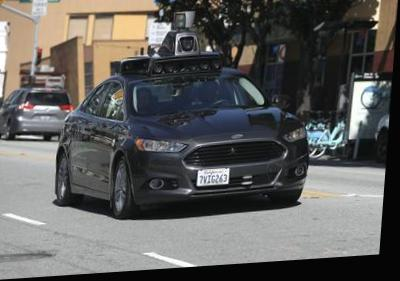License_Plate: (196, 165, 231, 188)
